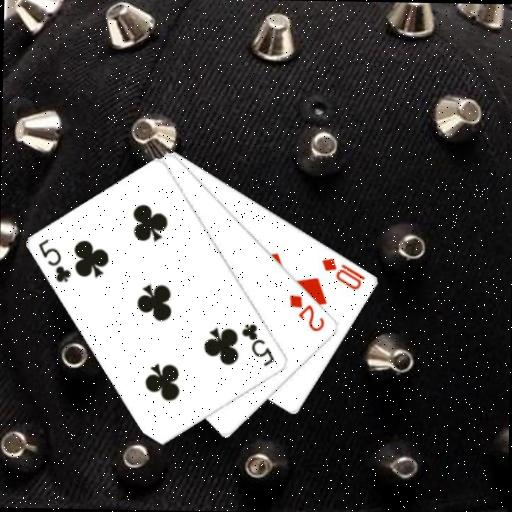10D: (319, 255, 368, 292)
2D: (286, 292, 327, 334)
5C: (238, 320, 278, 368), (36, 236, 75, 285)
